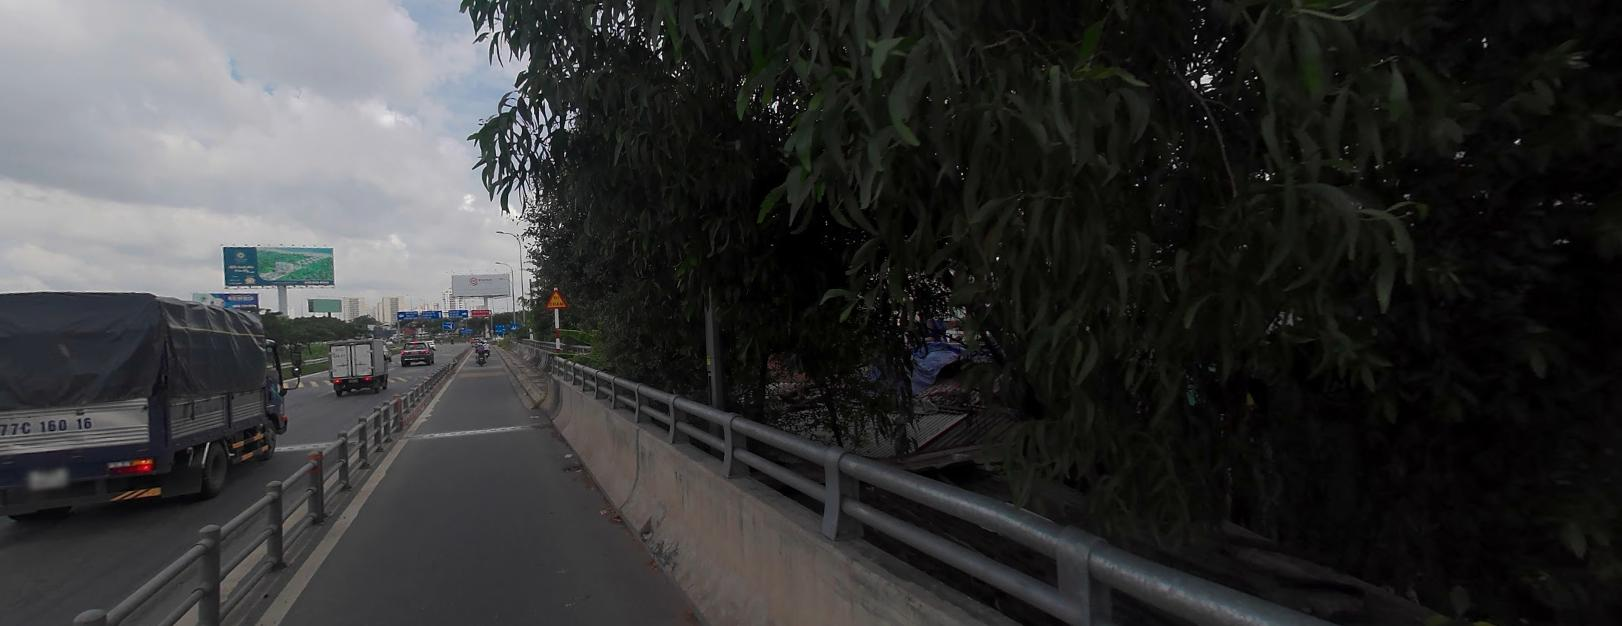Nguy hiem: (544, 287, 567, 306)
